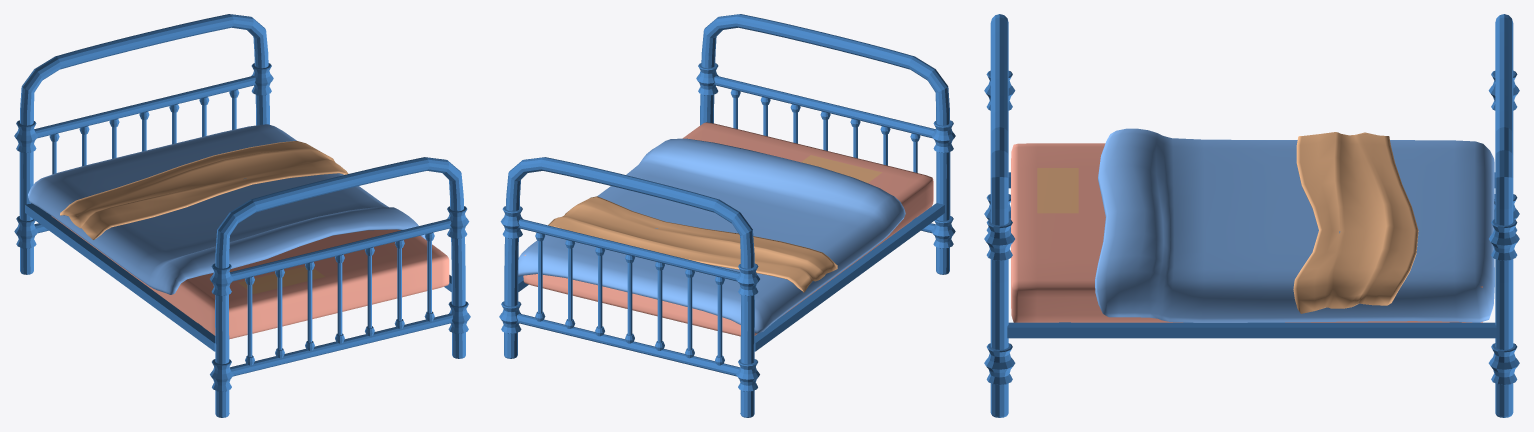
The model's file is Bed 4.fbx.
3 views of the same model, side by side, from view 1: azimuth 30°, elevation 25°; view 2: azimuth 150°, elevation 25°; view 3: azimuth 270°, elevation 25° (orthographic). The views are drawn at different scales.
Parts seen in each view (by area): view 1: Node 0; view 2: Node 0; view 3: Node 0.
Part boxes in pixels (x1,y1,x2,y2): Node 0: [14, 14, 470, 417]; Node 0: [499, 14, 955, 417]; Node 0: [984, 14, 1519, 417].
Bounding box in the file's own units: 2.44 × 1.36 × 1.78.
